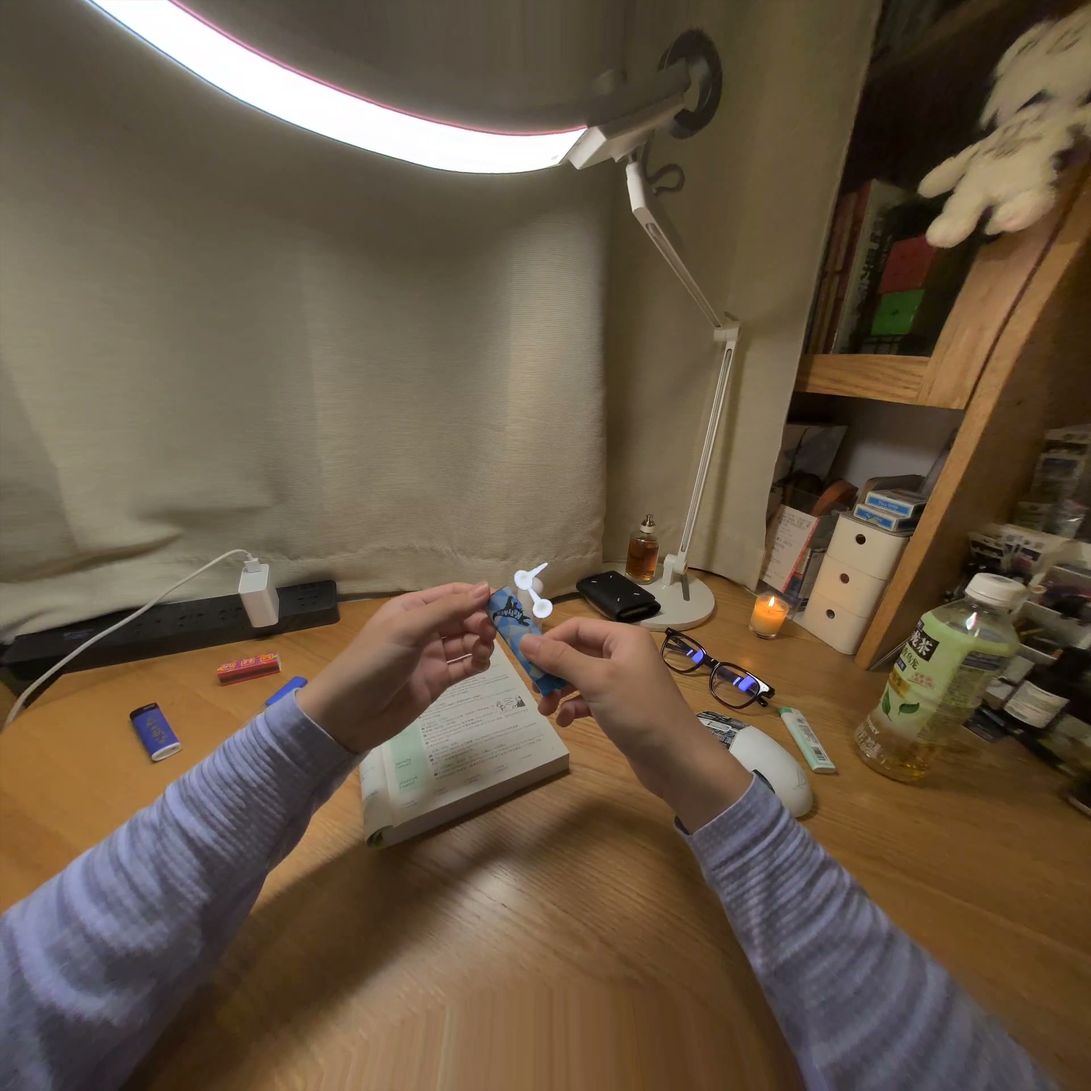lighter: (487, 587, 567, 696)
